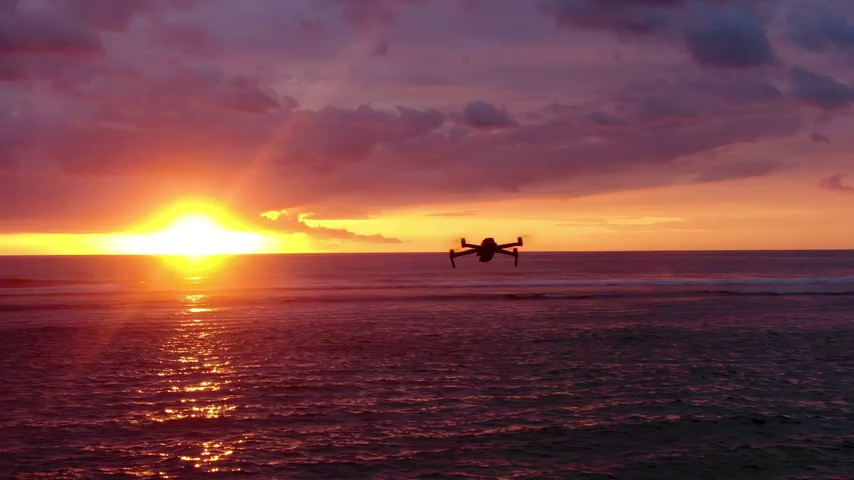drone: (448, 233, 523, 268)
